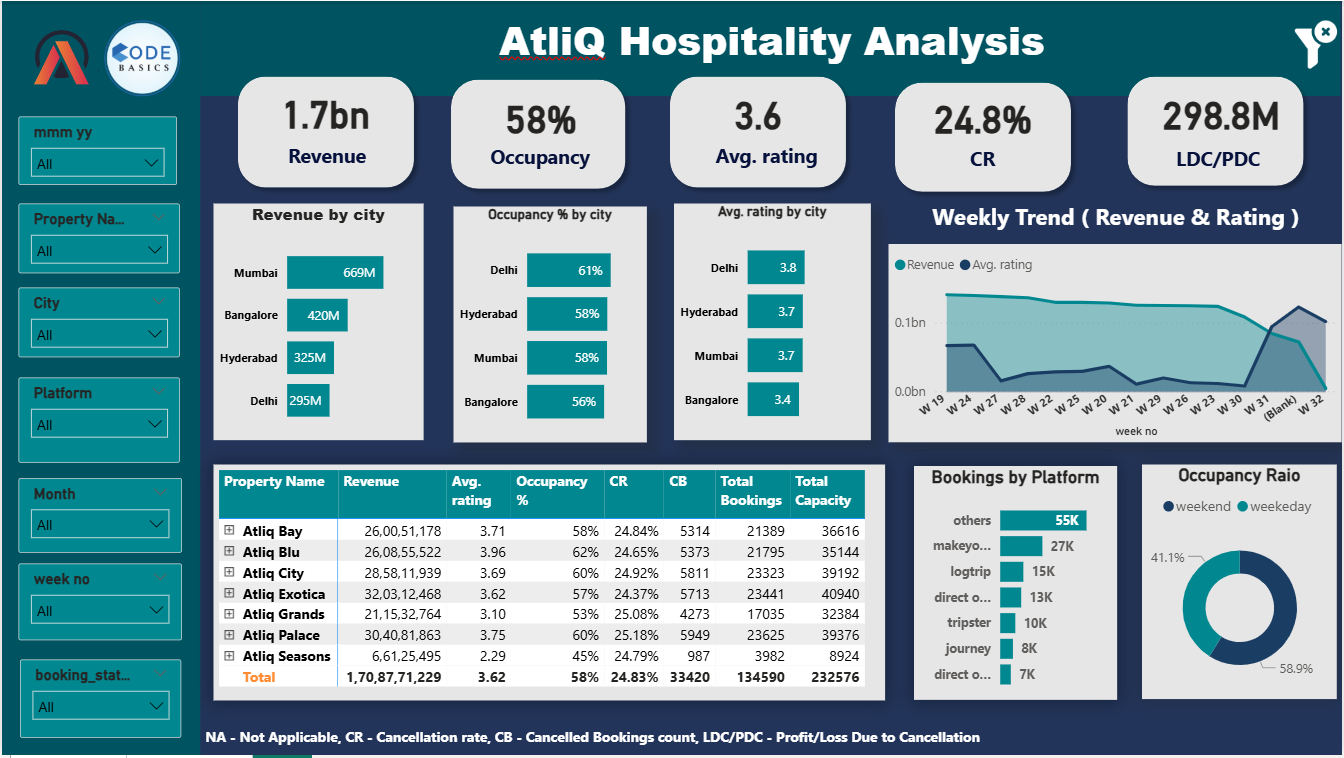

The page's visual inventory and layout, read from the dashboard file:
{"tool":"powerbi","page":{"name":"overall","canvas":[1280,720],"ordinal":0},"visuals":[{"type":"barChart","fields":{"Y":["Report Measure.Revenue"],"Category":["dim_hotels.city"]},"box":[202,194.1,200.4,225.9],"z":0},{"type":"barChart","fields":{"Y":["Report Measure.Occupancy %"],"Category":["dim_hotels.city"]},"box":[430.8,195.8,184.4,225.2],"z":1000},{"type":"barChart","fields":{"Category":["dim_hotels.city"],"Y":["Report Measure.Average Rating"]},"box":[641,194.1,187.7,225.9],"z":2000},{"type":"areaChart","fields":{"Category":["dim_date.week no"],"Y":["Report Measure.Revenue"],"Y2":["Report Measure.Average Rating"]},"box":[846.2,232.2,432.6,189.3],"z":3000},{"type":"shape","box":[0,0,189.3,720.5],"z":4000},{"type":"donutChart","title":"Occupancy Raio","fields":{"Category":["dim_date.day_type"],"Y":["Report Measure.Occupancy %"]},"box":[1088,442.2,186.1,224.3],"z":5000},{"type":"clusteredBarChart","title":"Bookings by Platform","fields":{"Category":["fact_bookings.booking_platform"],"Y":["Report Measure.Total Bookings"]},"box":[871.5,443.9,194.2,223.6],"z":6000},{"type":"pivotTable","fields":{"Rows":["dim_hotels.property_name","dim_hotels.city"],"Values":["Report Measure.Revenue","Report Measure.Average Rating","Report Measure.Occupancy %","Report Measure.CR","Report Measure.Total cancelled bookings","Report Measure.Total Bookings","Report Measure.Total Capacity"]},"box":[202.4,442.3,641.4,225.2],"z":7000},{"type":"slicer","fields":{"Values":["dim_date.week no"]},"box":[15.9,537.6,155.9,73.2],"z":8000},{"type":"slicer","fields":{"Values":["dim_date.mmm yy.Variation.Date Hierarchy.Month"]},"box":[15.9,454.9,155.9,71.6],"z":9000},{"type":"slicer","fields":{"Values":["fact_bookings.booking_platform"]},"box":[15.9,359.5,154.3,81.1],"z":10000},{"type":"slicer","fields":{"Values":["fact_bookings.booking_status"]},"box":[17.5,628.3,154.3,74.8],"z":11000},{"type":"slicer","fields":{"Values":["dim_hotels.city"]},"box":[15.9,273.6,154.3,66.8],"z":12000},{"type":"slicer","fields":{"Values":["dim_hotels.property_name"]},"box":[15.9,194.1,154.3,66.8],"z":13000},{"type":"shape","box":[189.3,0,1089.6,90.7],"z":14000},{"type":"shape","box":[216.3,63.6,186.1,124.1],"z":15000},{"type":"shape","box":[628.3,63.6,186.1,124.1],"z":16000},{"type":"shape","box":[843,68.4,186.1,122.5],"z":17000},{"type":"shape","box":[1065.7,63.6,186.1,122.5],"z":18000},{"type":"card","fields":{"Values":["Report Measure.CR"]},"box":[853.5,73.4,164.8,73.4],"z":19000},{"type":"shape","box":[419.9,65.2,184.5,122.5],"z":20000},{"type":"card","fields":{"Values":["Report Measure.LDC"]},"box":[1088.5,68.5,150.1,73.4],"z":21000},{"type":"card","fields":{"Values":["Report Measure.Occupancy %"]},"box":[430.8,73.4,164.8,73.4],"z":22000},{"type":"card","fields":{"Values":["Report Measure.Average Rating"]},"box":[639.7,68.5,163.2,73.4],"z":23000},{"type":"card","fields":{"Values":["Report Measure.Revenue"]},"box":[226.8,68.5,164.8,72],"z":24000},{"type":"textbox","box":[189.3,687.1,1062.5,33.4],"z":25000},{"type":"image","title":"atliq","box":[15.9,17.5,76.3,73.2],"z":26000},{"type":"image","title":"codebasics","box":[92.3,15.9,84.3,77.9],"z":27000},{"type":"slicer","fields":{"Values":["dim_date.mmm yy"]},"box":[15.9,109.8,151.1,65.2],"z":28000},{"type":"textbox","box":[383.3,0,717.4,73.2],"z":29000},{"type":"textbox","box":[846.2,184.5,434.2,42.9],"z":30000},{"type":"image","box":[1229.5,19.1,50.9,46.1],"z":31000},{"type":"textbox","box":[238.3,128.9,145.2,39.2],"z":32000},{"type":"textbox","box":[440.6,130.6,145.2,44.1],"z":33000},{"type":"textbox","box":[657.7,128.9,145.2,44.1],"z":34000},{"type":"textbox","box":[863.3,132.2,145.2,44.1],"z":35000},{"type":"textbox","box":[1088.5,132.2,145.2,44.1],"z":36000}]}

Visuals, with their boxes in screenshot pixels (x1, y1, x2, y2), scaled from the page's 1280x720 canvas onto the 1344x758 screenshot:
barChart - Report Measure.Revenue x dim_hotels.city: locate(212, 204, 423, 442)
barChart - Report Measure.Occupancy % x dim_hotels.city: locate(452, 206, 646, 443)
barChart - dim_hotels.city x Report Measure.Average Rating: locate(673, 204, 870, 442)
areaChart - dim_date.week no x Report Measure.Revenue: locate(889, 244, 1343, 444)
shape: locate(0, 0, 199, 757)
"Occupancy Raio" donutChart: locate(1142, 466, 1338, 702)
"Bookings by Platform" clusteredBarChart: locate(915, 467, 1119, 703)
pivotTable - dim_hotels.property_name x dim_hotels.city: locate(213, 466, 886, 703)
slicer - dim_date.week no: locate(17, 566, 180, 643)
slicer - dim_date.mmm yy.Variation.Date Hierarchy.Month: locate(17, 479, 180, 554)
slicer - fact_bookings.booking_platform: locate(17, 378, 179, 464)
slicer - fact_bookings.booking_status: locate(18, 661, 180, 740)
slicer - dim_hotels.city: locate(17, 288, 179, 358)
slicer - dim_hotels.property_name: locate(17, 204, 179, 275)
shape: locate(199, 0, 1343, 95)
shape: locate(227, 67, 423, 198)
shape: locate(660, 67, 855, 198)
shape: locate(885, 72, 1081, 201)
shape: locate(1119, 67, 1314, 196)
card - Report Measure.CR: locate(896, 77, 1069, 155)
shape: locate(441, 69, 635, 198)
card - Report Measure.LDC: locate(1143, 72, 1301, 149)
card - Report Measure.Occupancy %: locate(452, 77, 625, 155)
card - Report Measure.Average Rating: locate(672, 72, 843, 149)
card - Report Measure.Revenue: locate(238, 72, 411, 148)
textbox: locate(199, 723, 1314, 757)
"atliq" image: locate(17, 18, 97, 95)
"codebasics" image: locate(97, 17, 185, 99)
slicer - dim_date.mmm yy: locate(17, 116, 175, 184)
textbox: locate(402, 0, 1156, 77)
textbox: locate(889, 194, 1343, 239)
image: locate(1291, 20, 1343, 69)
textbox: locate(250, 136, 403, 177)
textbox: locate(463, 137, 615, 184)
textbox: locate(691, 136, 843, 182)
textbox: locate(906, 139, 1059, 186)
textbox: locate(1143, 139, 1295, 186)
